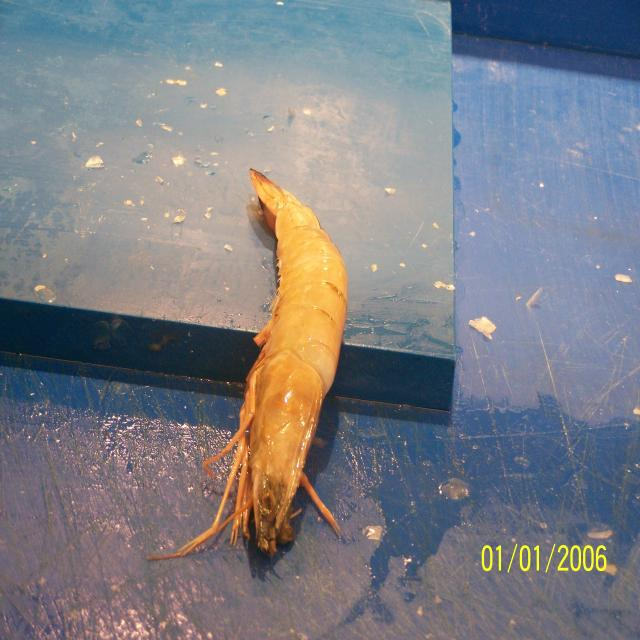Shrimp-karides-: (151, 169, 348, 561)
